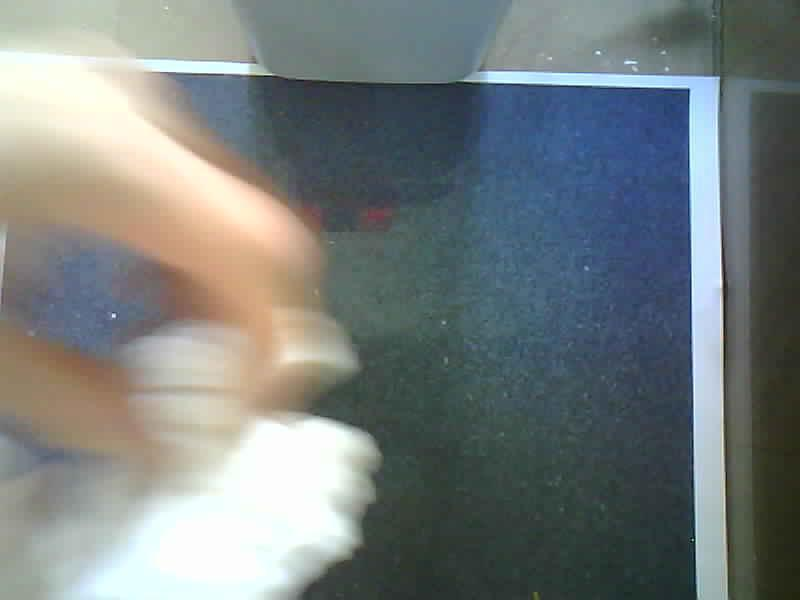paper: (0, 311, 380, 597)
